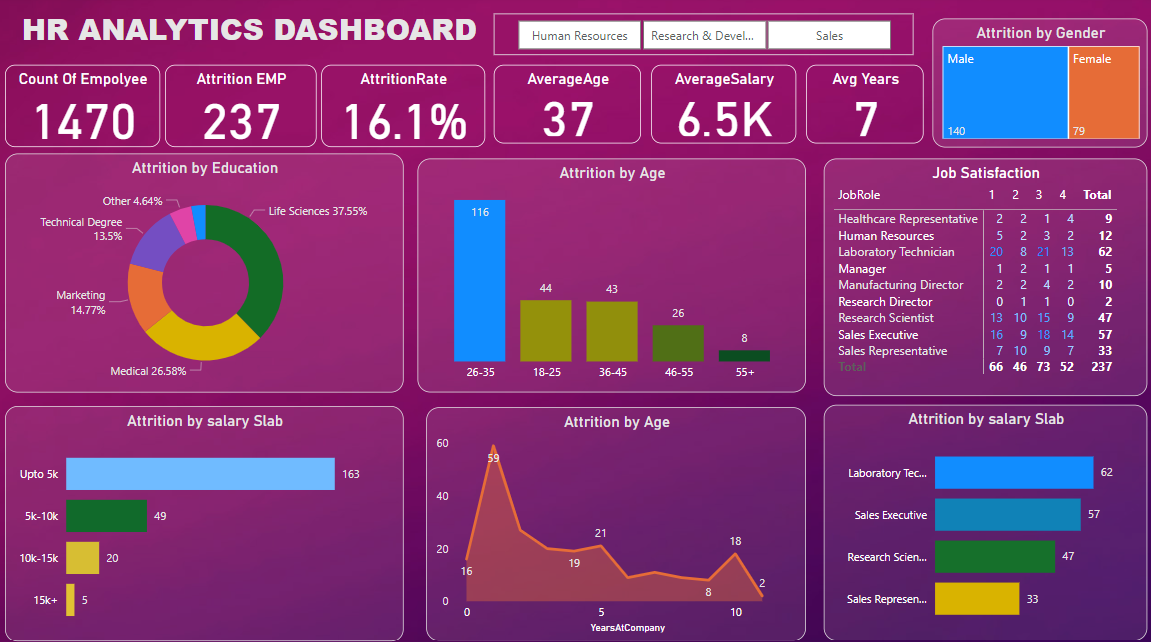

The page's visual inventory and layout, read from the dashboard file:
{"tool":"powerbi","page":{"name":"Page 1","canvas":[1280,720],"ordinal":0},"visuals":[{"type":"card","title":"Count Of  Empolyee","fields":{"Values":["CountNonNull(HR_Analytics.EmpID)"]},"box":[11,75.5,170.2,90.6],"z":0},{"type":"card","title":"Attrition EMP","fields":{"Values":["Sum(HR_Analytics.AttritionCount)"]},"box":[186.6,75.5,166,90.6],"z":1000},{"type":"card","title":"AttritionRate","fields":{"Values":["HR_Analytics.AttritionRate"]},"box":[358.1,75.5,179.8,90.6],"z":2000},{"type":"card","title":"AverageAge","fields":{"Values":["Avg(HR_Analytics.Age)"]},"box":[547.5,75.5,161.9,86.4],"z":3000},{"type":"card","title":"AverageSalary","fields":{"Values":["Avg(HR_Analytics.MonthlyIncome)"]},"box":[720.4,75.5,159.2,86.4],"z":4000},{"type":"card","title":"Avg Years ","fields":{"Values":["Avg(HR_Analytics.YearsAtCompany)"]},"box":[890.6,75.5,129,86.4],"z":5000},{"type":"donutChart","title":"Attrition by Education","fields":{"Category":["HR_Analytics.EducationField"],"Y":["Sum(HR_Analytics.AttritionCount)"]},"box":[11,172.9,437.7,262.1],"z":6000},{"type":"columnChart","title":"Attrition by Age","fields":{"Y":["Sum(HR_Analytics.AttritionCount)"],"Category":["HR_Analytics.AgeGroup"]},"box":[463.8,178.4,426.8,256.6],"z":7000},{"type":"pivotTable","title":"Job Satisfaction","fields":{"Rows":["HR_Analytics.JobRole"],"Columns":["HR_Analytics.JobSatisfaction"],"Values":["Sum(HR_Analytics.AttritionCount)"]},"box":[909.8,178.4,355.4,260.7],"z":8000},{"type":"barChart","title":"Attrition by salary Slab","fields":{"Category":["HR_Analytics.SalarySlab"],"Y":["Sum(HR_Analytics.AttritionCount)"]},"box":[11,450.1,437.7,259.3],"z":9000},{"type":"barChart","title":"Attrition by salary Slab","fields":{"Y":["Sum(HR_Analytics.AttritionCount)"],"Category":["HR_Analytics.JobRole"]},"box":[909.8,448.7,355.4,259.3],"z":10000},{"type":"areaChart","title":"Attrition by Age","fields":{"Category":["HR_Analytics.YearsAtCompany"],"Y":["Sum(HR_Analytics.AttritionCount)"]},"box":[473.4,451.5,417.2,256.6],"z":11000},{"type":"treemap","title":"Attrition by Gender","fields":{"Values":["Sum(HR_Analytics.AttritionCount)"],"Group":["HR_Analytics.Gender"]},"box":[1029.2,24.7,236,141.3],"z":12000},{"type":"slicer","fields":{"Values":["HR_Analytics.Department"]},"box":[547.5,19.2,461.1,45.3],"z":13000},{"type":"textbox","box":[11,8.2,536.5,67.2],"z":15000}]}

Visuals, with their boxes in screenshot pixels (x1, y1, x2, y2), scaled from the page's 1280x720 canvas onto the 1151x642 screenshot:
"Count Of  Empolyee" card: [10,67,163,148]
"Attrition EMP" card: [168,67,317,148]
"AttritionRate" card: [322,67,484,148]
"AverageAge" card: [492,67,638,144]
"AverageSalary" card: [648,67,791,144]
"Avg Years " card: [801,67,917,144]
"Attrition by Education" donutChart: [10,154,403,388]
"Attrition by Age" columnChart: [417,159,801,388]
"Job Satisfaction" pivotTable: [818,159,1138,392]
"Attrition by salary Slab" barChart: [10,401,403,633]
"Attrition by salary Slab" barChart: [818,400,1138,631]
"Attrition by Age" areaChart: [426,403,801,631]
"Attrition by Gender" treemap: [925,22,1138,148]
slicer - HR_Analytics.Department: [492,17,907,58]
textbox: [10,7,492,67]
